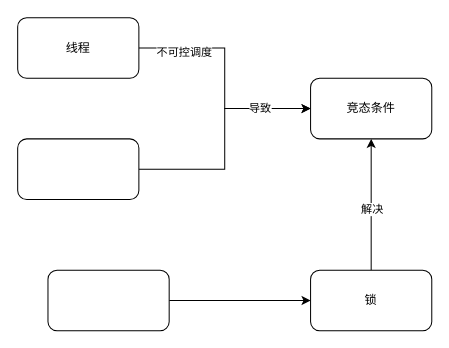
The diagram is 449 pixels wide and 348 high, and some of its shapes have lost their labels. Here are the shapes that lost their labels. From the top down, the centre of each, then its label:
[78,168]: 临界区
[108,300]: 硬件帮助实现原子性
